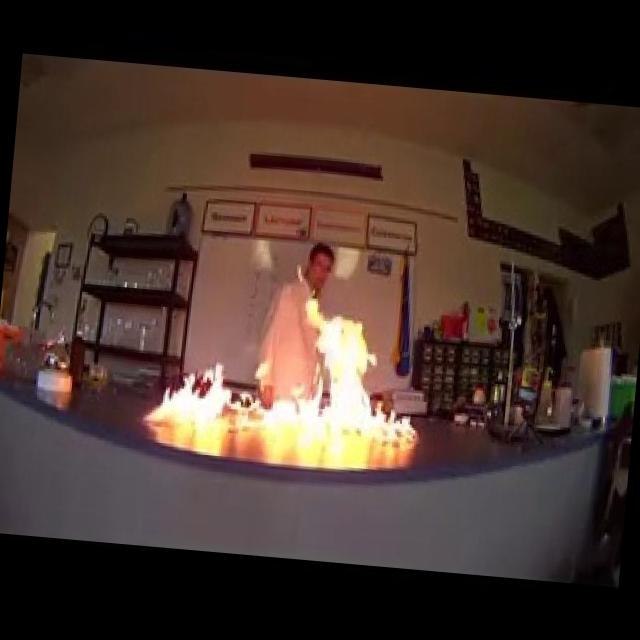Fire: (137, 281, 432, 449)
